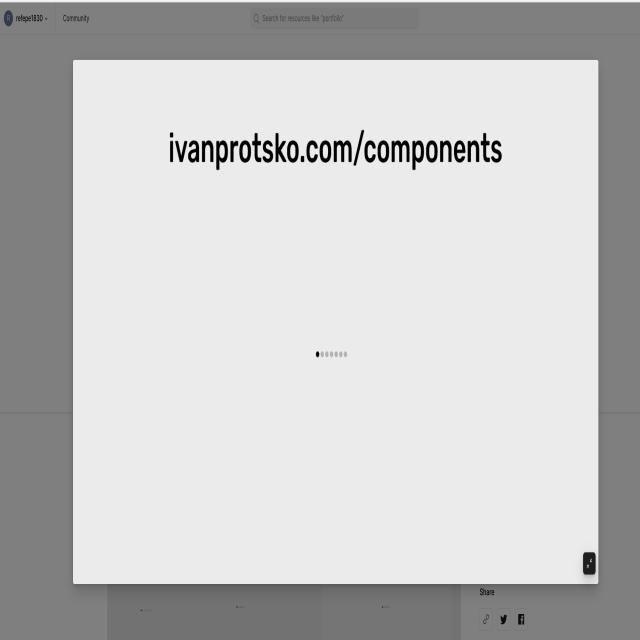button: (581, 550, 598, 578)
navigation dots: (312, 345, 349, 362)
text: (164, 125, 506, 168)
